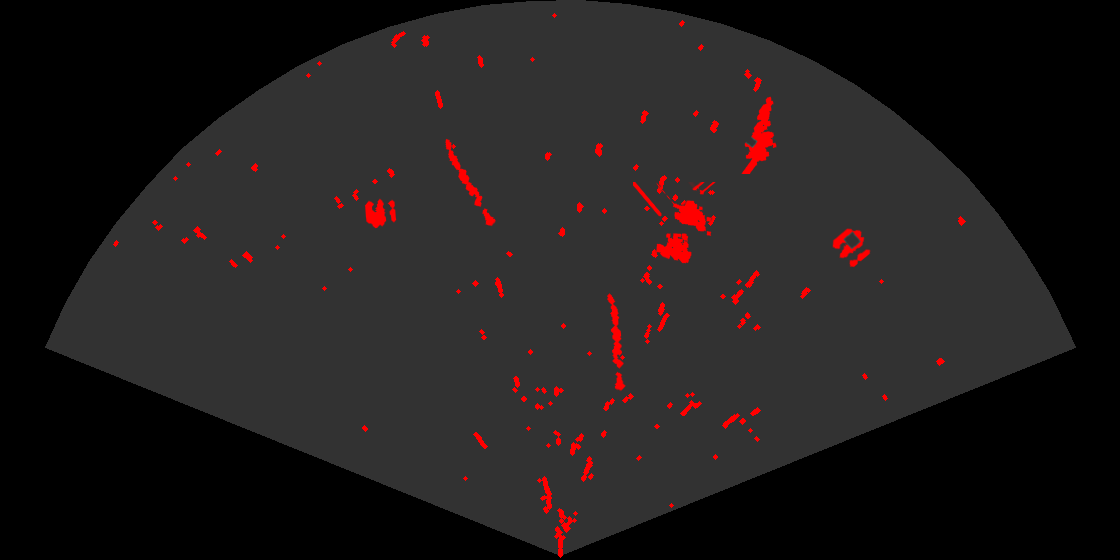ball: (831, 227, 872, 269), (363, 197, 398, 230)
cage: (633, 182, 717, 265)
chain: (444, 137, 497, 228), (606, 292, 627, 392)
frogman: (740, 95, 778, 174)
